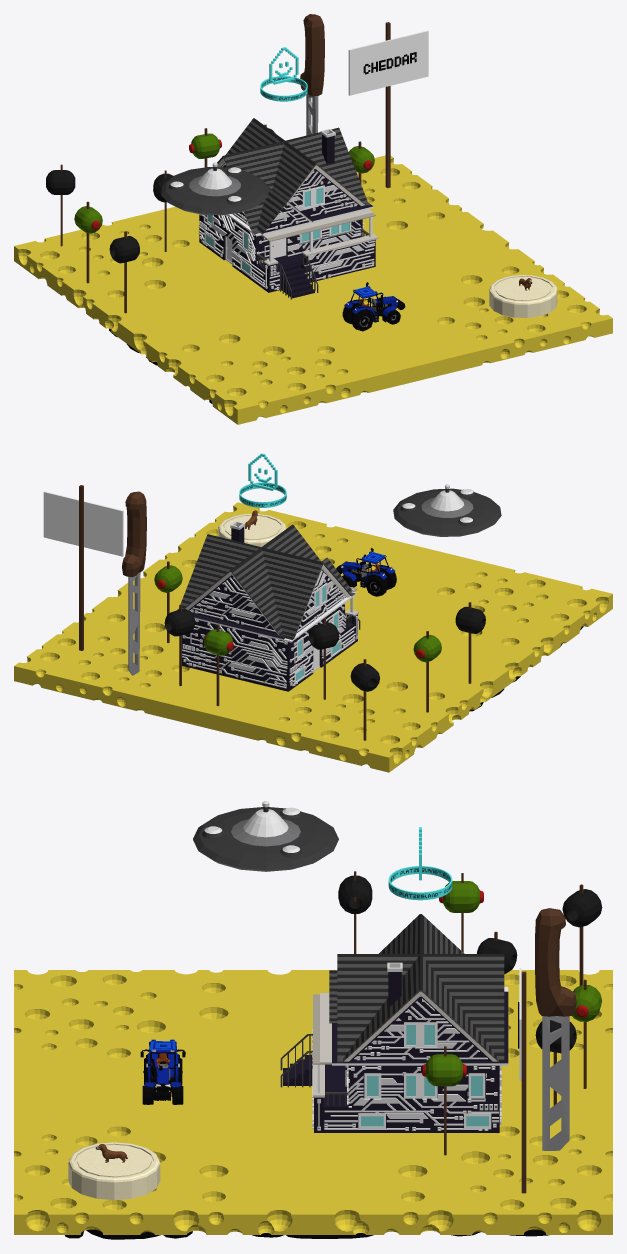
The picture shows the model from 3 angles, top to bottom: view 1: azimuth 30°, elevation 25°; view 2: azimuth 150°, elevation 25°; view 3: azimuth 270°, elevation 25°; orthographic projection. The views are drawn at different scales.
Parts seen in each view (by area): view 1: Cube.022, Cube.918, Cube.023, OBJRANDOM_UFO, Cylinder.016, Cube.024, VEHICLES_TRACTOR, TYPE_PREMIUM, Sphere.017, Sphere.016, Sphere.018, Sphere.022 (+1 smaller); view 2: Cube.022, Cube.918, Cube.023, OBJRANDOM_UFO, Cube.024, VEHICLES_TRACTOR, Cylinder.016, TYPE_PREMIUM, Sphere.017, Sphere.022, Sphere.016, Sphere.020 (+3 smaller); view 3: Cube.022, Cube.918, OBJRANDOM_UFO, Cube.024, Cylinder.016, VEHICLES_TRACTOR, Cube.023, Sphere.016, Sphere.019, TYPE_PREMIUM, Sphere.017, Sphere.018 (+4 smaller).
Boxes of the visible parts, left/top/right/bottom form: Cube.022: left=14, top=155, right=612, bottom=424; Cube.918: left=198, top=118, right=378, bottom=299; Cube.023: left=348, top=22, right=428, bottom=188; OBJRANDOM_UFO: left=161, top=162, right=269, bottom=215; Cylinder.016: left=489, top=275, right=557, bottom=317; Cube.024: left=300, top=14, right=324, bottom=135; VEHICLES_TRACTOR: left=342, top=282, right=405, bottom=331; TYPE_PREMIUM: left=260, top=47, right=307, bottom=101; Sphere.017: left=109, top=231, right=139, bottom=313; Sphere.016: left=46, top=164, right=75, bottom=246; Sphere.018: left=74, top=201, right=102, bottom=283; Sphere.022: left=189, top=128, right=221, bottom=167; Cube.022: left=14, top=502, right=612, bottom=772; Cube.918: left=177, top=521, right=360, bottom=691; Cube.023: left=43, top=485, right=123, bottom=650; OBJRANDOM_UFO: left=393, top=484, right=501, bottom=536; Cube.024: left=122, top=491, right=146, bottom=675; VEHICLES_TRACTOR: left=336, top=548, right=396, bottom=596; Cylinder.016: left=218, top=514, right=285, bottom=546; TYPE_PREMIUM: left=239, top=453, right=286, bottom=507; Sphere.017: left=455, top=602, right=485, bottom=683; Sphere.022: left=203, top=624, right=233, bottom=705; Sphere.016: left=350, top=659, right=379, bottom=740; Sphere.020: left=309, top=618, right=339, bottom=699; Cube.022: left=14, top=970, right=612, bottom=1234; Cube.918: left=280, top=914, right=508, bottom=1132; OBJRANDOM_UFO: left=193, top=801, right=338, bottom=871; Cube.024: left=535, top=908, right=576, bottom=1150; Cylinder.016: left=68, top=1142, right=160, bottom=1200; VEHICLES_TRACTOR: left=140, top=1039, right=185, bottom=1104; Cube.023: left=518, top=968, right=526, bottom=1193; Sphere.016: left=562, top=884, right=602, bottom=985; Sphere.019: left=422, top=1046, right=466, bottom=1155; TYPE_PREMIUM: left=388, top=827, right=452, bottom=900; Sphere.017: left=338, top=871, right=372, bottom=953; Sphere.018: left=439, top=873, right=483, bottom=952.
Bounding box in the file's own units: 3917 × 2197 × 4000.
Materials: 37 (4 with a texture image).
